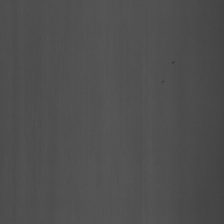inclusion: (156, 73, 168, 90), (168, 56, 178, 73)
